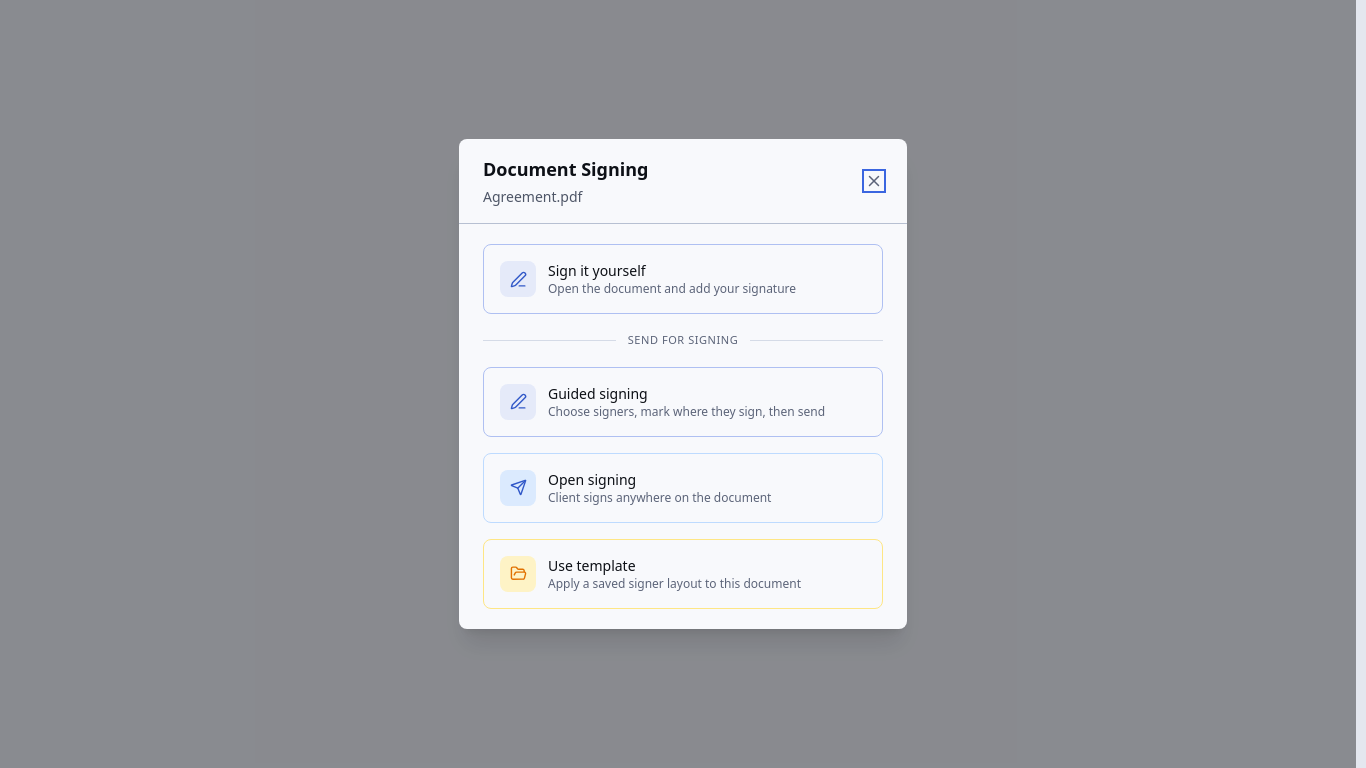
it: the access-code gate › blocks every send path when the code is 1-3 characters
Click the button "Open signing Client signs anywhere on the document" at {"x": 683, "y": 488}, box [483,453,883,523]
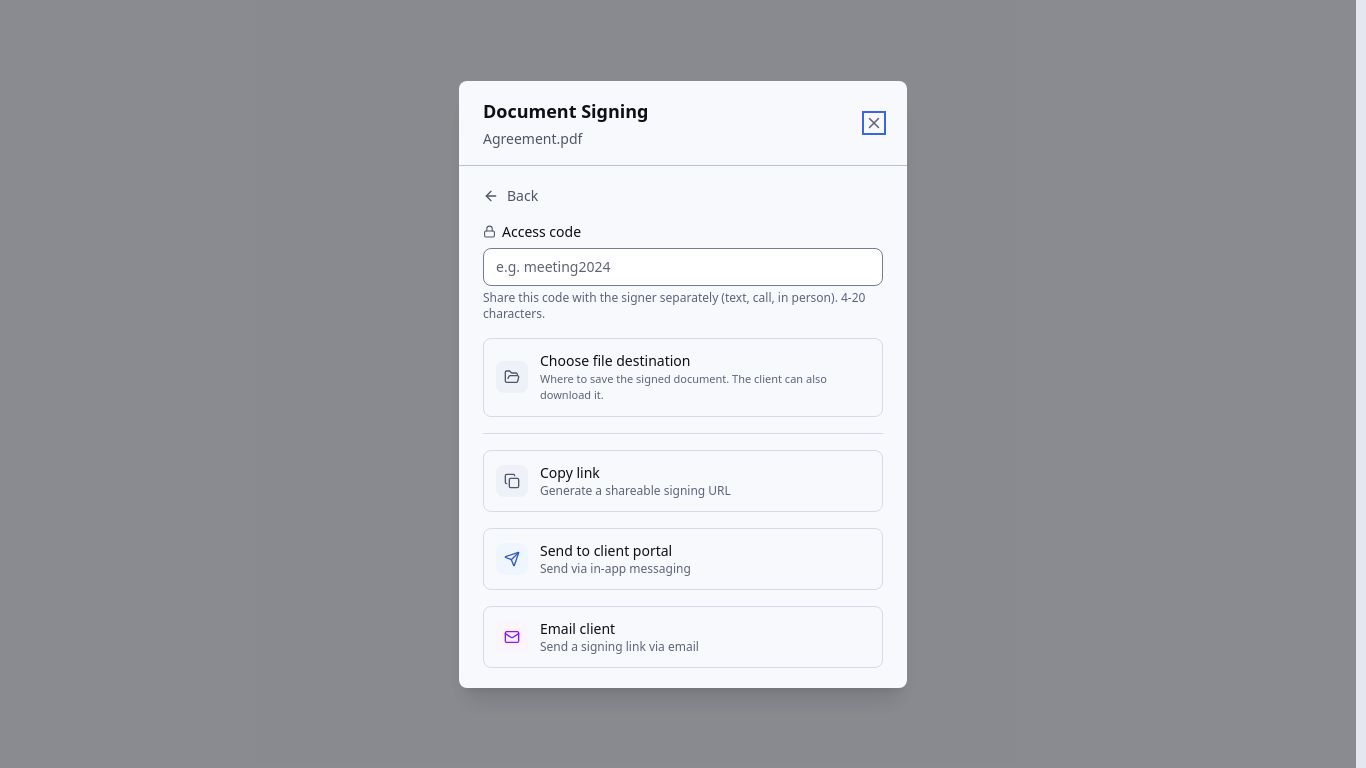
Type "abc" into the field with placeholder "e.g. meeting2024" at {"x": 683, "y": 266}, box [483,248,883,286]
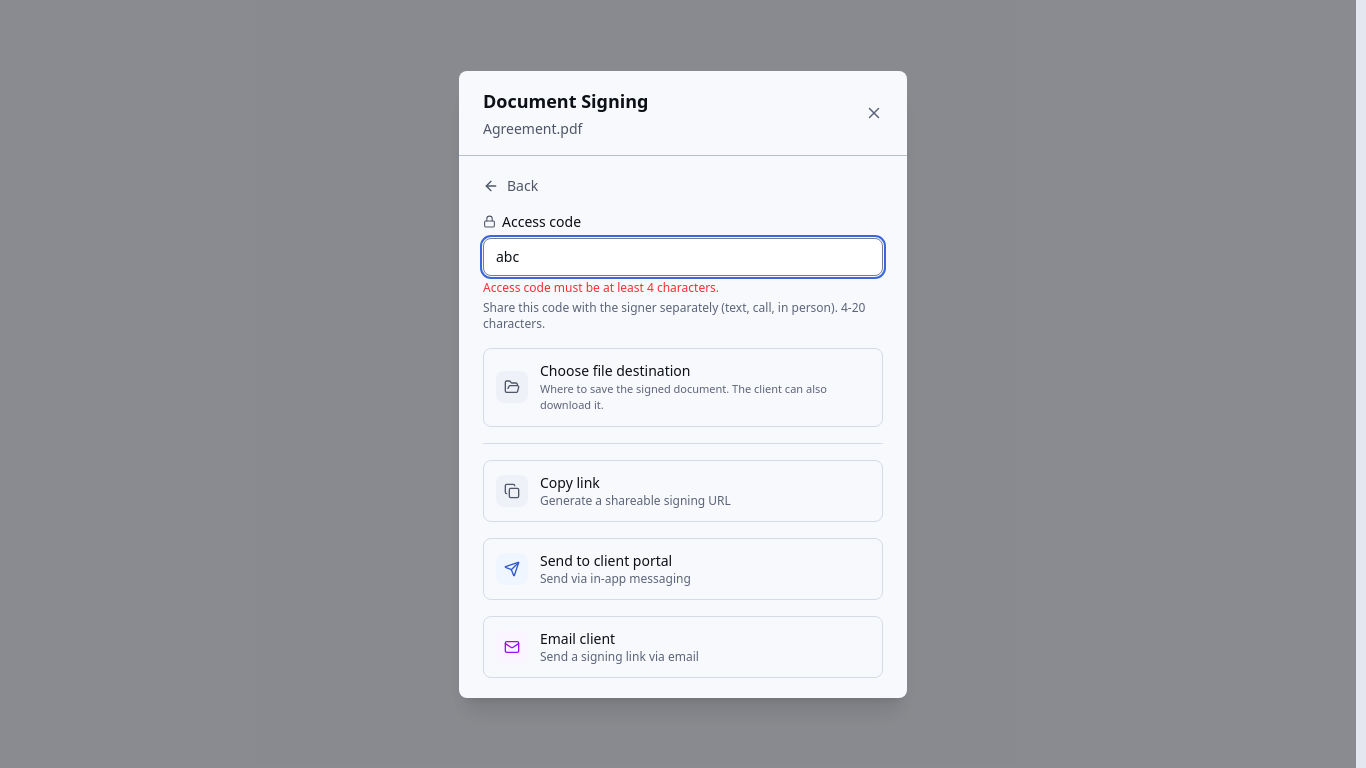
Click the button "Copy link Generate a shareable signing URL" at {"x": 683, "y": 490}, box [483,460,883,522]
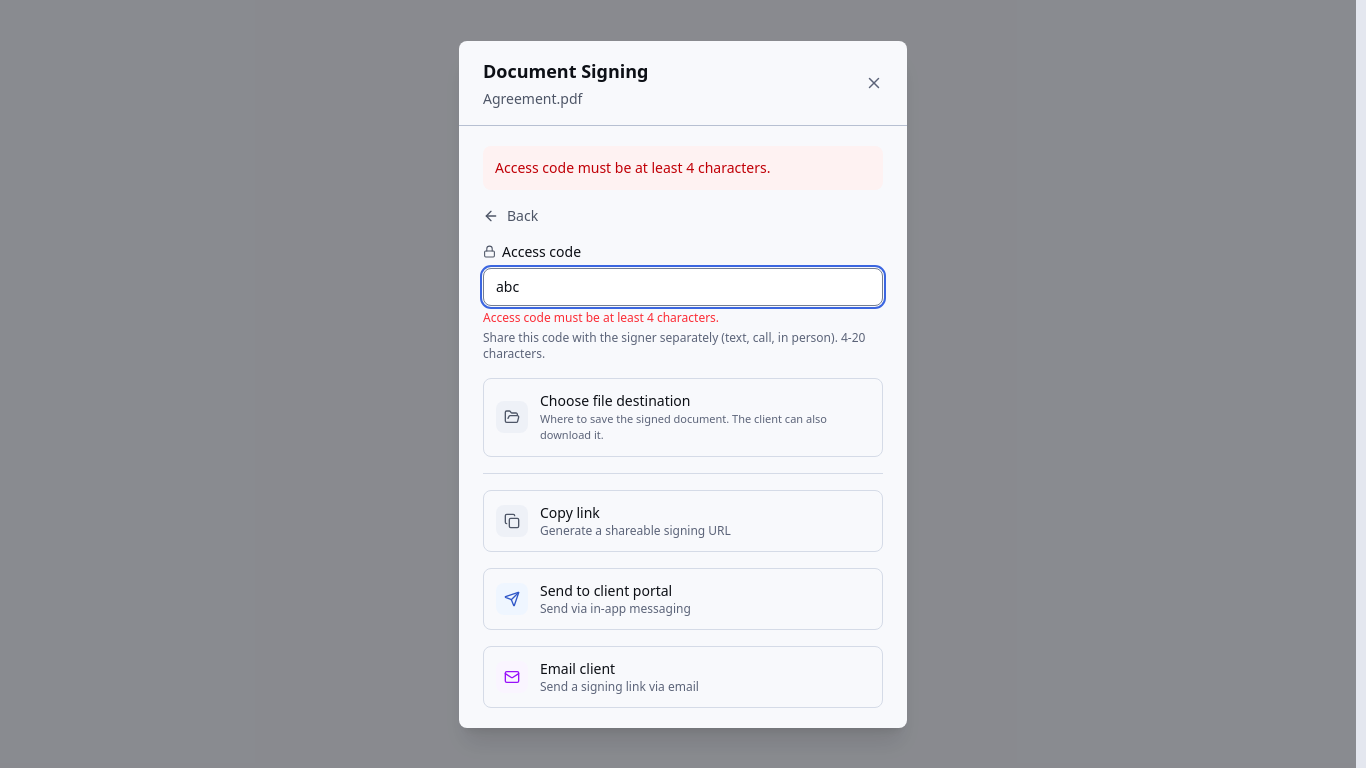
Check: the 1st text "Access code must be at least 4 characters." is shown, box [483,146,883,190]
